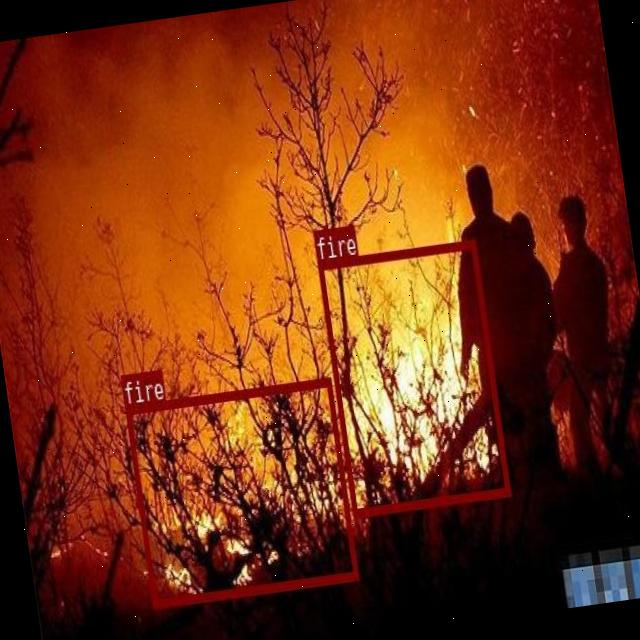fire: (124, 376, 357, 606), (317, 240, 510, 516)
